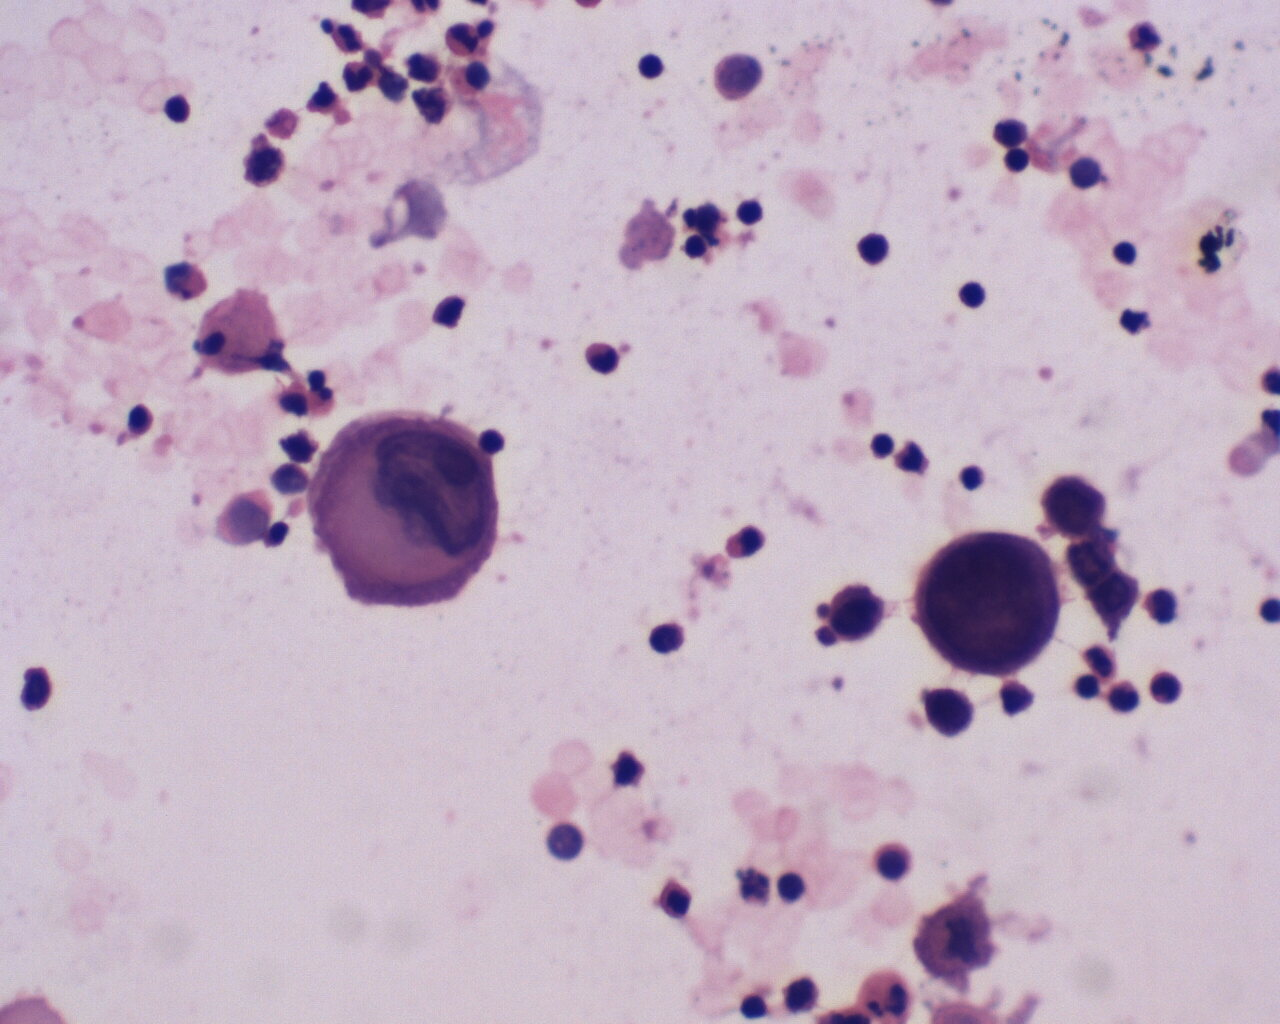ab: (318, 406, 506, 613), (914, 525, 1063, 676), (911, 890, 1000, 979), (1040, 468, 1111, 543)
lymph: (854, 227, 897, 272), (954, 275, 995, 315), (866, 427, 906, 465), (775, 869, 813, 908), (734, 195, 771, 233), (629, 49, 669, 85), (158, 87, 193, 124), (1112, 234, 1143, 267), (954, 463, 984, 495)
neutro: (1127, 18, 1168, 57), (339, 57, 376, 96)
